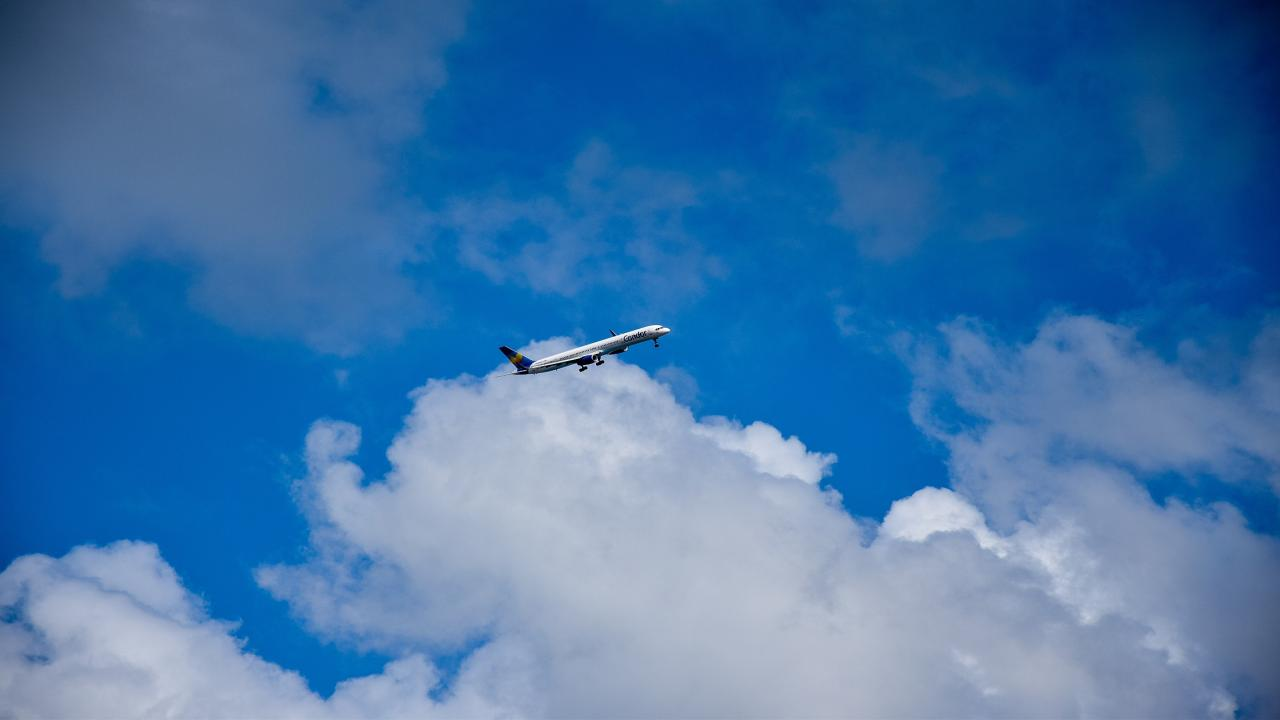Airplane: (489, 314, 681, 385)
